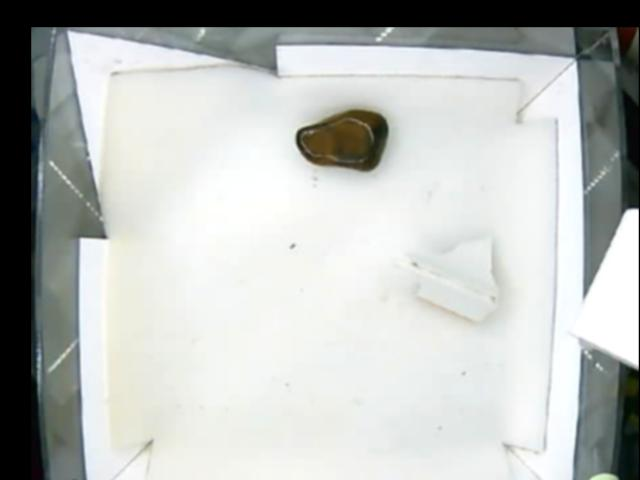China: (394, 235, 502, 317)
Pebble: (295, 108, 391, 172)
